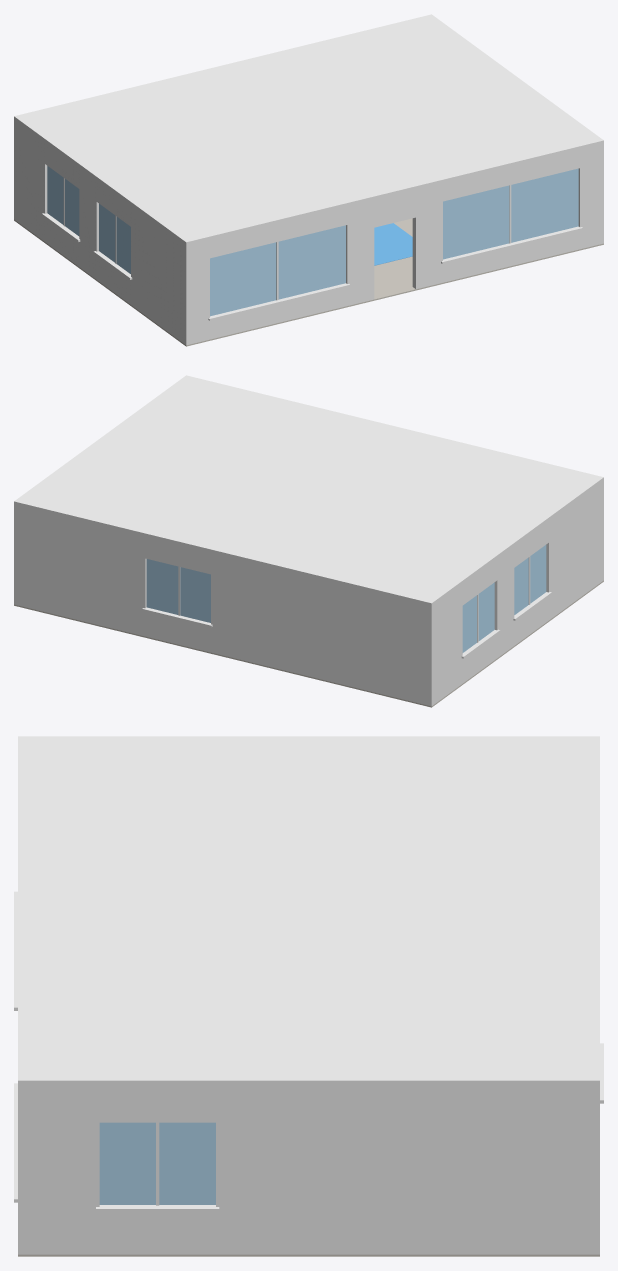
Rendered from saas-interior.glb.
The picture shows the model from 3 angles, top to bottom: view 1: azimuth 30°, elevation 25°; view 2: azimuth 150°, elevation 25°; view 3: azimuth 270°, elevation 25°; orthographic projection. The views are drawn at different scales.
Parts seen in each view (by area): view 1: ceiling, wall_front, walls, floor; view 2: ceiling, walls, floor; view 3: ceiling, walls, wall_front, floor.
Boxes of the visible parts, x1=… form: ceiling: x1=14, y1=14, x2=603, y2=245; wall_front: x1=182, y1=145, x2=597, y2=345; walls: x1=14, y1=119, x2=603, y2=344; floor: x1=14, y1=218, x2=603, y2=346; ceiling: x1=14, y1=375, x2=603, y2=606; walls: x1=14, y1=480, x2=603, y2=706; floor: x1=14, y1=580, x2=603, y2=707; ceiling: x1=18, y1=736, x2=599, y2=1085; walls: x1=18, y1=1043, x2=603, y2=1254; wall_front: x1=14, y1=891, x2=29, y2=1254; floor: x1=18, y1=1254, x2=599, y2=1256.
Bounding box in the file's own units: 14.14 × 3.34 × 10.14.
